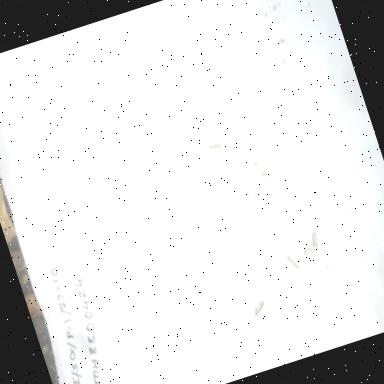pbw: (198, 130, 226, 160), (276, 249, 304, 278), (246, 293, 270, 319), (304, 223, 324, 253), (242, 186, 262, 212), (251, 156, 271, 182), (300, 243, 319, 260)
